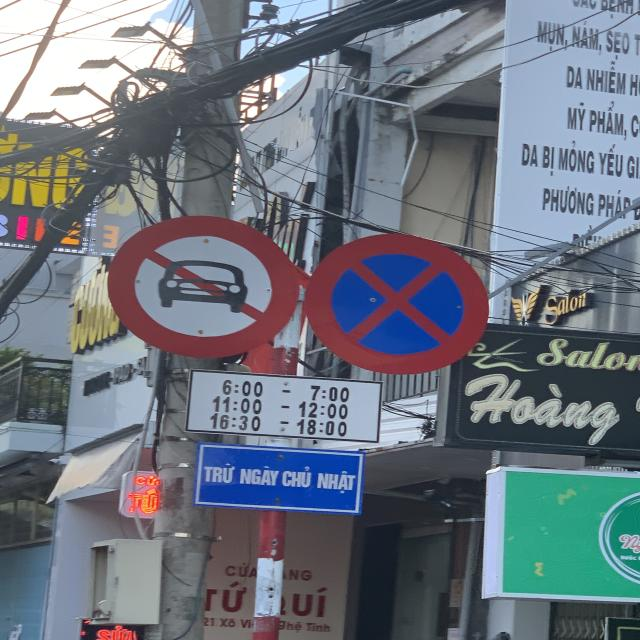Cam_Dung_Va_Dau_Xe: (306, 234, 490, 374)
Cam_O_To: (106, 213, 299, 359)
